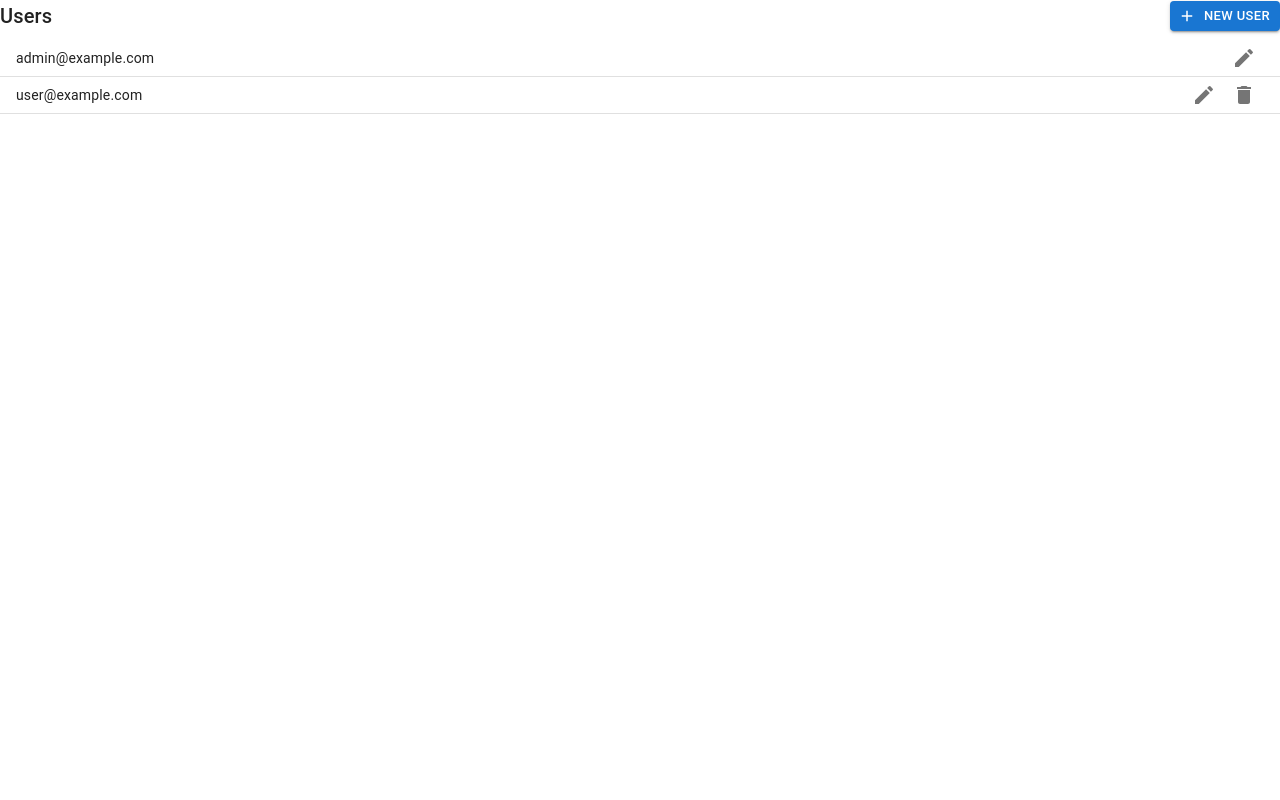
Scenario: RecordSection › hides Delete where canDelete refuses and shows the custom text
Expected: the button named "Edit" in the row of "admin@example.com" is shown, x1=1224 y1=38 x2=1264 y2=78
Expected: the button "Delete" is not shown
Click the button named "Delete" at (1244, 95), box x1=1224 y1=75 x2=1264 y2=115
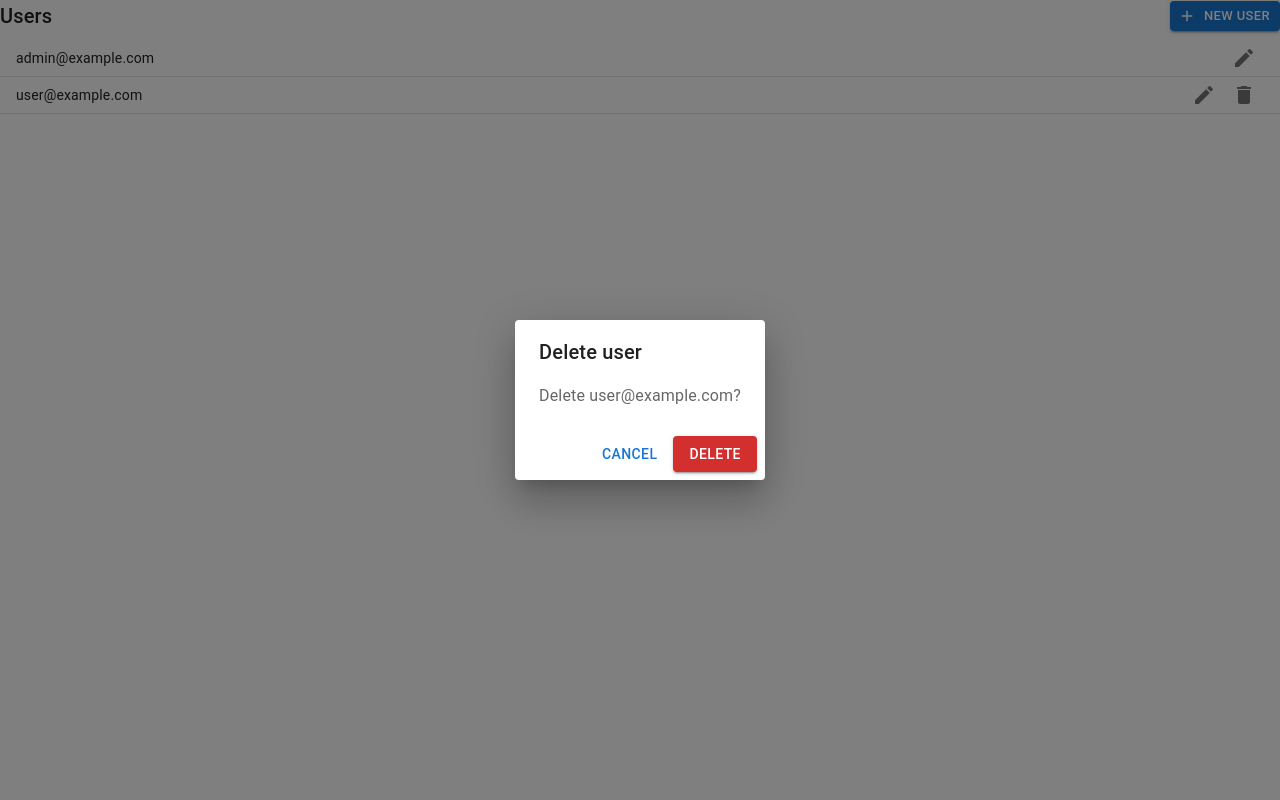
Result: the heading "Delete user" is shown at x1=539 y1=340 x2=642 y2=364
Click the button "Cancel" at (630, 454), box x1=594 y1=436 x2=665 y2=472
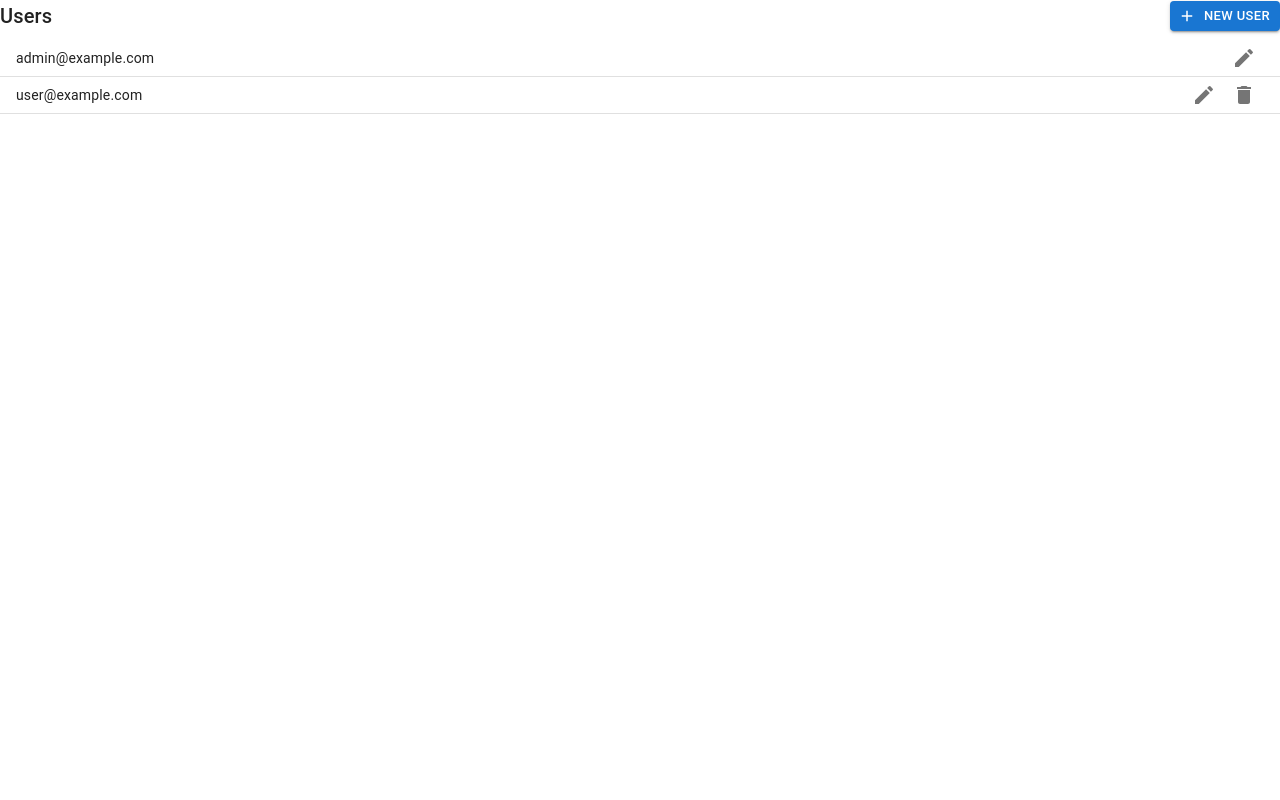
Result: the dialog is gone
